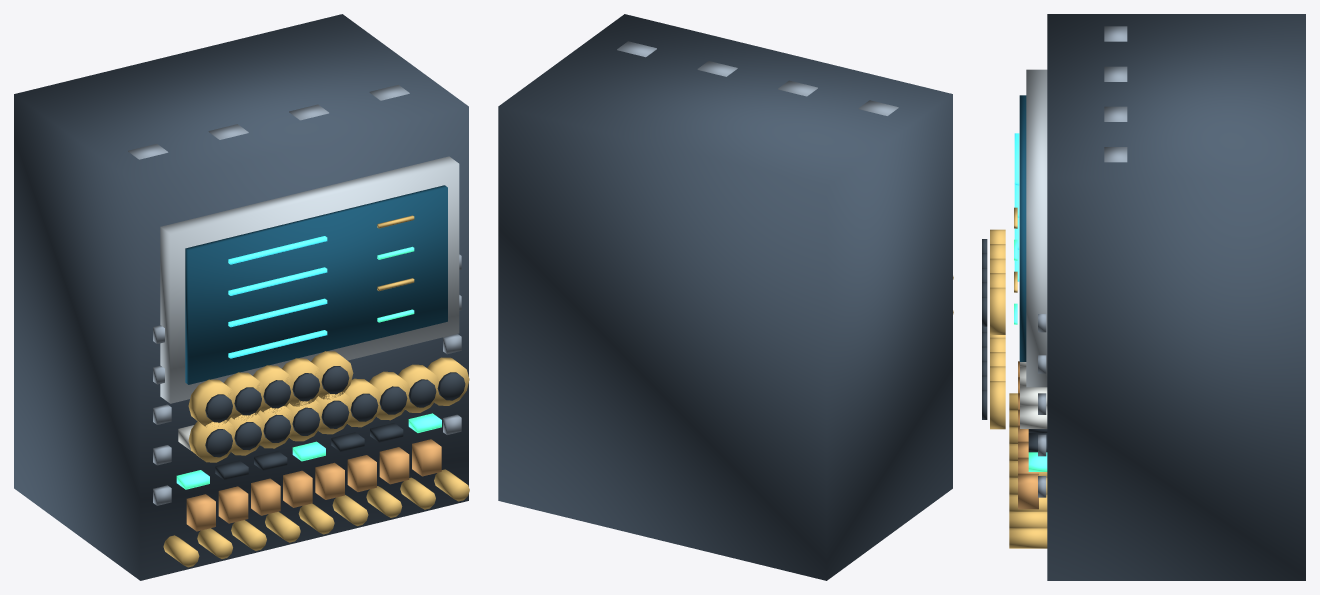
The model's file is 76_L88_AirQualityEnvironmentalPLC.glb.
3 renders of one model, left to right at view 1: azimuth 30°, elevation 25°; view 2: azimuth 150°, elevation 25°; view 3: azimuth 270°, elevation 25°, orthographic. The views are drawn at different scales.
Parts seen in each view (by area): view 1: L87_AirQualityEnvironmentalPL_Part_0000, L87_AirQualityEnvironmentalPL_Part_0002, L87_AirQualityEnvironmentalPL_Part_0001, L87_AirQualityEnvironmentalPL_Part_0009, L87_AirQualityEnvironmentalPL_Part_0004, L87_AirQualityEnvironmentalPL_Part_0008, L87_AirQualityEnvironmentalPL_Part_0003, L87_AirQualityEnvironmentalPL_Part_0007, L87_AirQualityEnvironmentalPL_Part_0005, L87_AirQualityEnvironmentalPL_Part_0028, L87_AirQualityEnvironmentalPL_Part_0010, L87_AirQualityEnvironmentalPL_Part_0036 (+23 smaller); view 2: L87_AirQualityEnvironmentalPL_Part_0000, L87_AirQualityEnvironmentalPL_Part_0008; view 3: L87_AirQualityEnvironmentalPL_Part_0000, L87_AirQualityEnvironmentalPL_Part_0001, L87_AirQualityEnvironmentalPL_Part_0004, L87_AirQualityEnvironmentalPL_Part_0008, L87_AirQualityEnvironmentalPL_Part_0002, L87_AirQualityEnvironmentalPL_Part_0009, L87_AirQualityEnvironmentalPL_Part_0006, L87_AirQualityEnvironmentalPL_Part_0026, L87_AirQualityEnvironmentalPL_Part_0036, L87_AirQualityEnvironmentalPL_Part_0003, L87_AirQualityEnvironmentalPL_Part_0005.
Boxes of the visible parts, left/top/right/bottom form: L87_AirQualityEnvironmentalPL_Part_0000: left=14, top=14, right=468, bottom=580; L87_AirQualityEnvironmentalPL_Part_0002: left=185, top=185, right=447, bottom=384; L87_AirQualityEnvironmentalPL_Part_0001: left=160, top=156, right=459, bottom=403; L87_AirQualityEnvironmentalPL_Part_0009: left=186, top=439, right=441, bottom=531; L87_AirQualityEnvironmentalPL_Part_0004: left=163, top=215, right=469, bottom=567; L87_AirQualityEnvironmentalPL_Part_0008: left=128, top=85, right=461, bottom=505; L87_AirQualityEnvironmentalPL_Part_0003: left=228, top=236, right=327, bottom=358; L87_AirQualityEnvironmentalPL_Part_0007: left=215, top=423, right=403, bottom=480; L87_AirQualityEnvironmentalPL_Part_0005: left=176, top=246, right=441, bottom=489; L87_AirQualityEnvironmentalPL_Part_0028: left=188, top=379, right=235, bottom=427; L87_AirQualityEnvironmentalPL_Part_0010: left=188, top=420, right=235, bottom=462; L87_AirQualityEnvironmentalPL_Part_0036: left=311, top=351, right=353, bottom=399; L87_AirQualityEnvironmentalPL_Part_0000: left=498, top=14, right=952, bottom=580; L87_AirQualityEnvironmentalPL_Part_0008: left=617, top=41, right=898, bottom=115; L87_AirQualityEnvironmentalPL_Part_0000: left=1047, top=14, right=1305, bottom=580; L87_AirQualityEnvironmentalPL_Part_0001: left=1026, top=69, right=1047, bottom=387; L87_AirQualityEnvironmentalPL_Part_0004: left=1009, top=207, right=1047, bottom=548; L87_AirQualityEnvironmentalPL_Part_0008: left=1038, top=26, right=1127, bottom=497; L87_AirQualityEnvironmentalPL_Part_0002: left=1019, top=95, right=1026, bottom=361; L87_AirQualityEnvironmentalPL_Part_0009: left=1018, top=361, right=1038, bottom=509; L87_AirQualityEnvironmentalPL_Part_0006: left=1020, top=362, right=1047, bottom=428; L87_AirQualityEnvironmentalPL_Part_0026: left=990, top=381, right=1005, bottom=429; L87_AirQualityEnvironmentalPL_Part_0036: left=990, top=287, right=1005, bottom=334; L87_AirQualityEnvironmentalPL_Part_0003: left=1014, top=133, right=1019, bottom=281; L87_AirQualityEnvironmentalPL_Part_0005: left=1014, top=239, right=1047, bottom=471.
Size of the model in its own units: 1.04 by 1.2 by 0.8688.
